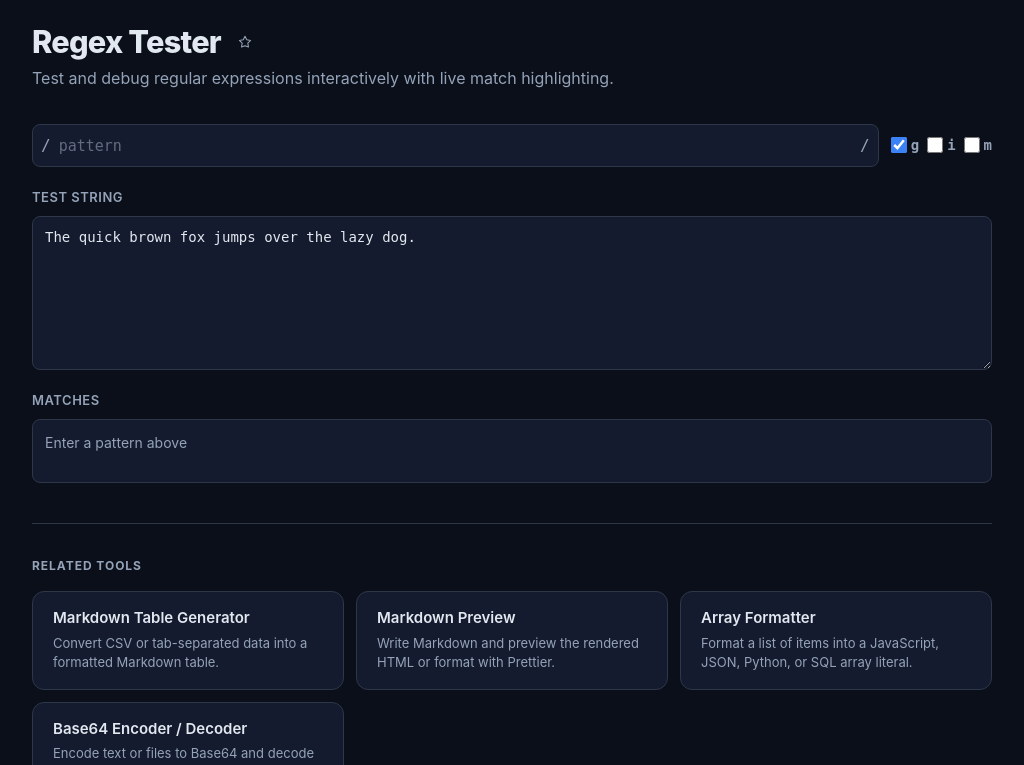
Test case: RegexTester › shows error message for invalid pattern
Type "[" into the field labelled "pattern" at x=455, y=146, box 59,128 -> 852,162
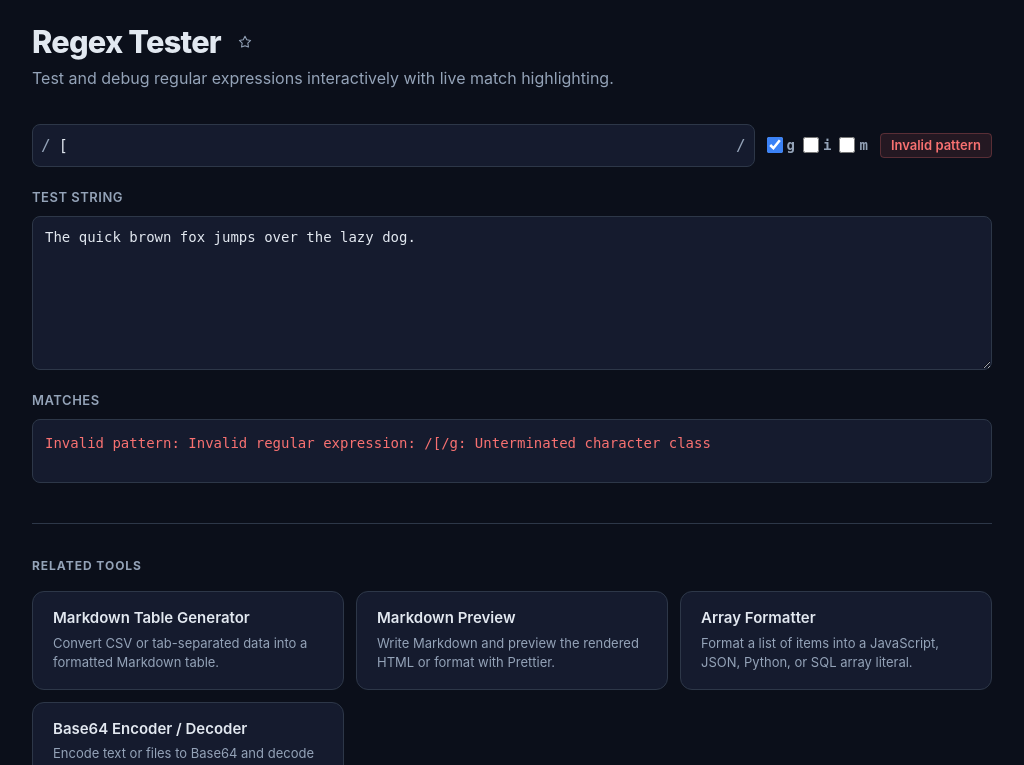
Result: the text "Invalid pattern" is shown at 880,133 -> 992,158
